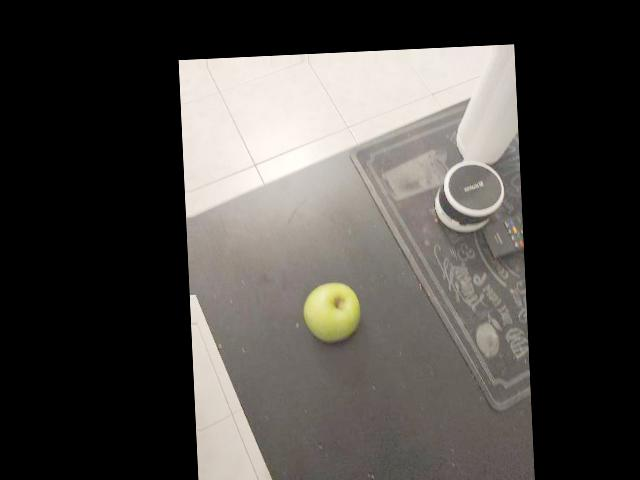apple: (215, 164, 314, 240)
